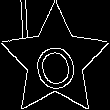O_N: (28, 30, 82, 91)
